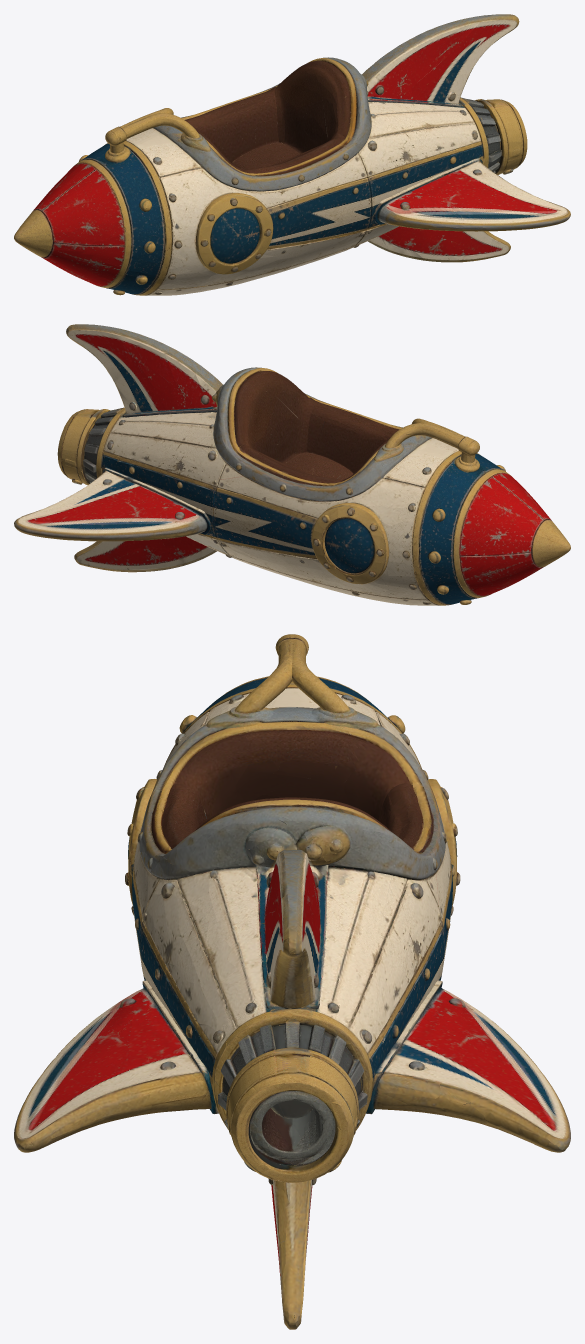
Rendered from rocket.glb.
3 views of the same model, one above another, from view 1: azimuth 30°, elevation 25°; view 2: azimuth 150°, elevation 25°; view 3: azimuth 270°, elevation 25° (orthographic). The views are drawn at different scales.
Bounding box in the file's own units: 1.9 × 0.8796 × 1.07.
1 material, 1 textured.
